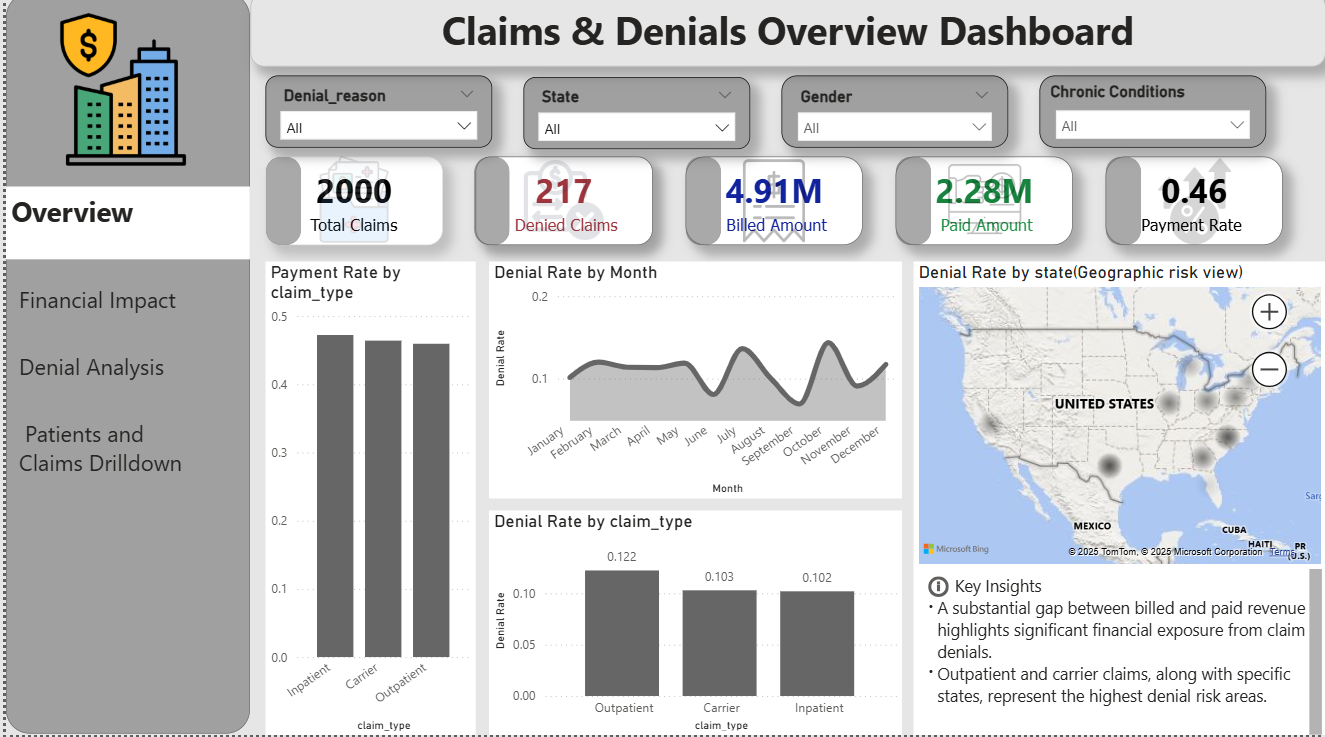

The dashboard page shown, as its layout file describes it:
{"tool":"powerbi","page":{"name":"overview dashboard","canvas":[1280,720],"ordinal":0},"visuals":[{"type":"card","fields":{"Values":["claims_project_claims.Total Claims"]},"box":[251.8,159,172.3,86.1],"z":0},{"type":"card","fields":{"Values":["claims_project_claims.Total Denied Claims"]},"box":[455.7,159,172,86],"z":1000},{"type":"card","fields":{"Values":["claims_project_claims.Total Billed Amount"]},"box":[659.3,159,172,86],"z":2000},{"type":"card","fields":{"Values":["claims_project_claims.Total Paid Amount"]},"box":[862.9,159,172.3,86.1],"z":3000},{"type":"card","fields":{"Values":["claims_project_claims.Payment Rate %"]},"box":[1066.8,159,172,86],"z":4000},{"type":"columnChart","fields":{"Y":["claims_project_claims.Denial Rate %"],"Category":["claims_project_claims.claim_type"]},"box":[468.8,501.9,400.9,218.7],"z":5000},{"type":"lineChart","fields":{"Category":["claims_project_claims.claim_date.Variation.Date Hierarchy.Month"],"Y":["claims_project_claims.Denial Rate %"]},"box":[468.8,260.1,400.9,230.3],"z":6000},{"type":"columnChart","fields":{"Y":["claims_project_claims.Payment Rate %"],"Category":["claims_project_claims.claim_type"]},"box":[251.8,260.1,203.7,460.5],"z":7000},{"type":"textbox","box":[236.9,0,1043.6,71.2],"z":8000},{"type":"textbox","box":[0,0,236.9,718.9],"z":9000},{"type":"slicer","fields":{"Values":["claims_project_claims.denial_reason"]},"box":[251.8,80.1,219.8,69.9],"z":10000},{"type":"slicer","fields":{"Values":["claims_project_providers.state"]},"box":[502.2,81.5,219.8,69.9],"z":11000},{"type":"slicer","fields":{"Values":["claims_project_patients.gender"]},"box":[752.5,80.1,219.8,69.9],"z":12000},{"type":"slicer","title":"Chronic Conditions","fields":{"Values":["claims_project_patients.chf_flag","claims_project_patients.ckd_flag","claims_project_patients.copd_flag","claims_project_patients.diabetes_flag","claims_project_patients.esrd_flag"]},"box":[1002.9,80.1,219.8,69.9],"z":13000},{"type":"shape","box":[251.8,159,34.8,86.1],"z":14000},{"type":"shape","box":[453.9,159,34.8,86.1],"z":15000},{"type":"shape","box":[659.3,159,34.8,86.1],"z":16000},{"type":"shape","box":[863,159,34.8,86.1],"z":17000},{"type":"shape","box":[1066.8,159,34.8,86.1],"z":18000},{"type":"textbox","box":[0,188.4,237,70.9],"z":19000},{"type":"map","title":"Denial Rate  by state(Geographic risk view)","fields":{"Size":["claims_project_claims.Denial Rate %"],"Category":["claims_project_patients.state"]},"box":[880.6,260.5,400.3,298.4],"z":20000},{"type":"textbox","box":[881,559,399,161],"z":21000},{"type":"actionButton","box":[891.2,556.6,28.2,39.8],"z":22000},{"type":"shape","box":[1265.6,558.2,12,160.7],"z":23000},{"type":"image","box":[286.7,157.2,101.9,85.9],"z":24000},{"type":"image","box":[24.3,14.2,178.2,158],"z":25000},{"type":"image","box":[471.6,157.2,139.7,87.3],"z":26000},{"type":"image","box":[669.6,158.7,151.4,85.9],"z":27000},{"type":"image","box":[909.7,158.7,80.1,83],"z":28000},{"type":"image","box":[1107.3,159.1,91.4,86.6],"z":29000}]}

Visuals, with their boxes in screenshot pixels (x1, y1, x2, y2), scaled from the page's 1280x720 canvas onto the 1325x737 screenshot:
card - claims_project_claims.Total Claims: <region>261, 163, 439, 251</region>
card - claims_project_claims.Total Denied Claims: <region>472, 163, 650, 251</region>
card - claims_project_claims.Total Billed Amount: <region>682, 163, 861, 251</region>
card - claims_project_claims.Total Paid Amount: <region>893, 163, 1072, 251</region>
card - claims_project_claims.Payment Rate %: <region>1104, 163, 1282, 251</region>
columnChart - claims_project_claims.Denial Rate % x claims_project_claims.claim_type: <region>485, 514, 900, 736</region>
lineChart - claims_project_claims.claim_date.Variation.Date Hierarchy.Month x claims_project_claims.Denial Rate %: <region>485, 266, 900, 502</region>
columnChart - claims_project_claims.Payment Rate % x claims_project_claims.claim_type: <region>261, 266, 472, 736</region>
textbox: <region>245, 0, 1324, 73</region>
textbox: <region>0, 0, 245, 736</region>
slicer - claims_project_claims.denial_reason: <region>261, 82, 488, 154</region>
slicer - claims_project_providers.state: <region>520, 83, 747, 155</region>
slicer - claims_project_patients.gender: <region>779, 82, 1006, 154</region>
"Chronic Conditions" slicer: <region>1038, 82, 1266, 154</region>
shape: <region>261, 163, 297, 251</region>
shape: <region>470, 163, 506, 251</region>
shape: <region>682, 163, 719, 251</region>
shape: <region>893, 163, 929, 251</region>
shape: <region>1104, 163, 1140, 251</region>
textbox: <region>0, 193, 245, 265</region>
"Denial Rate  by state(Geographic risk view)" map: <region>912, 267, 1324, 572</region>
textbox: <region>912, 572, 1324, 736</region>
actionButton: <region>923, 570, 952, 610</region>
shape: <region>1310, 571, 1323, 736</region>
image: <region>297, 161, 402, 249</region>
image: <region>25, 15, 210, 176</region>
image: <region>488, 161, 633, 250</region>
image: <region>693, 162, 850, 250</region>
image: <region>942, 162, 1025, 247</region>
image: <region>1146, 163, 1241, 252</region>
